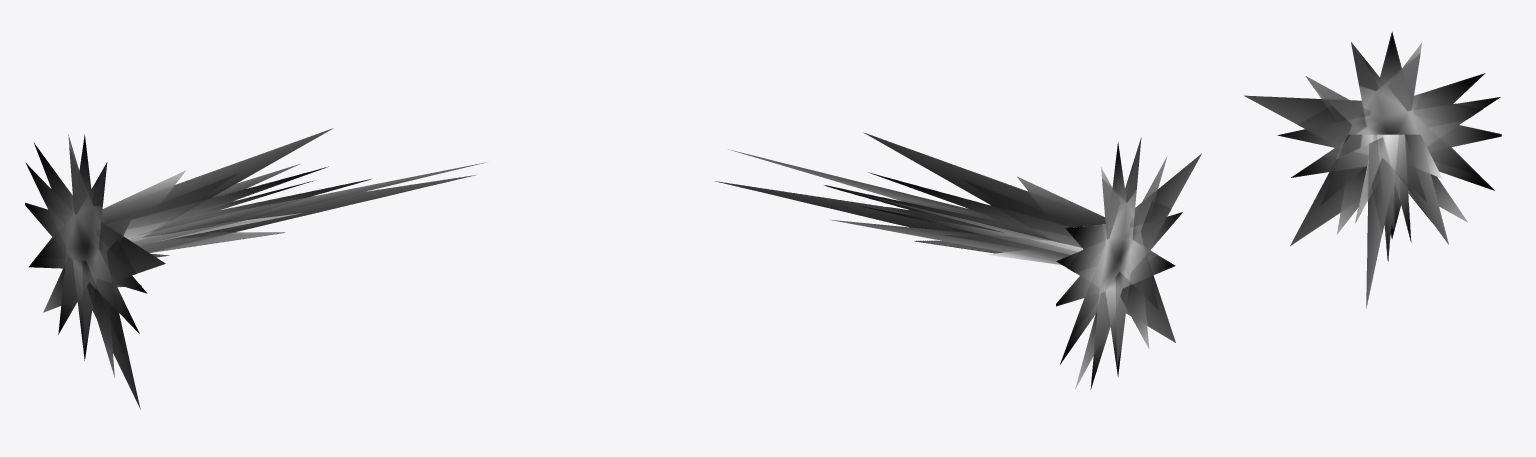
File: muzzle_flash_sprite_njgsskjgkjsgf2.fbx
The picture shows the model from 3 angles, left to right: view 1: azimuth 30°, elevation 25°; view 2: azimuth 150°, elevation 25°; view 3: azimuth 270°, elevation 25°; orthographic projection. The views are drawn at different scales.
Visible parts, largest first — view 1: muzzle-flash_base, muzzle_flash_horizontal, muzzle_flash_horizontal.001; view 2: muzzle-flash_base, muzzle_flash_horizontal, muzzle_flash_horizontal.001; view 3: muzzle-flash_base, muzzle_flash_horizontal.001.
Boxes of the visible parts, left/top/right/bottom form: muzzle-flash_base: left=25, top=134, right=165, bottom=409; muzzle_flash_horizontal: left=101, top=128, right=475, bottom=287; muzzle_flash_horizontal.001: left=127, top=162, right=487, bottom=257; muzzle-flash_base: left=1056, top=137, right=1201, bottom=389; muzzle_flash_horizontal: left=715, top=132, right=1105, bottom=253; muzzle_flash_horizontal.001: left=728, top=149, right=1083, bottom=264; muzzle-flash_base: left=1244, top=32, right=1501, bottom=245; muzzle_flash_horizontal.001: left=1336, top=134, right=1448, bottom=308.
Bounding box in the file's own units: 1.67 × 1.08 × 1.01.
3 materials, 3 textured.
